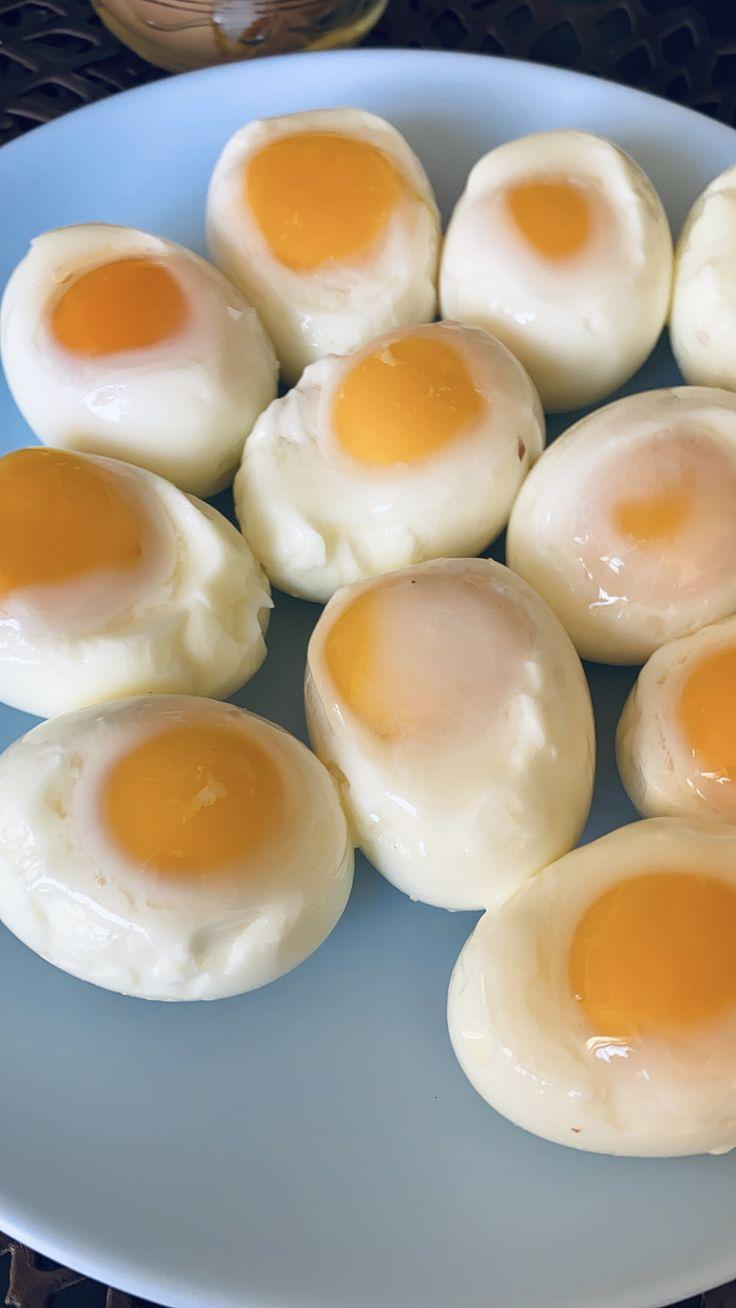eggs: (23, 94, 736, 1171)
